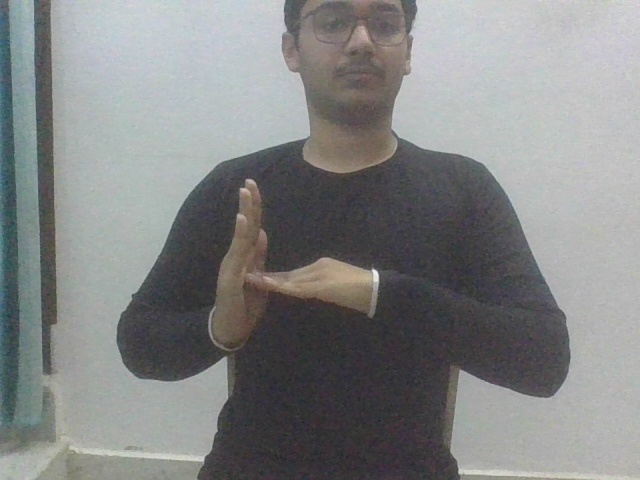Z: (209, 174, 379, 355)
